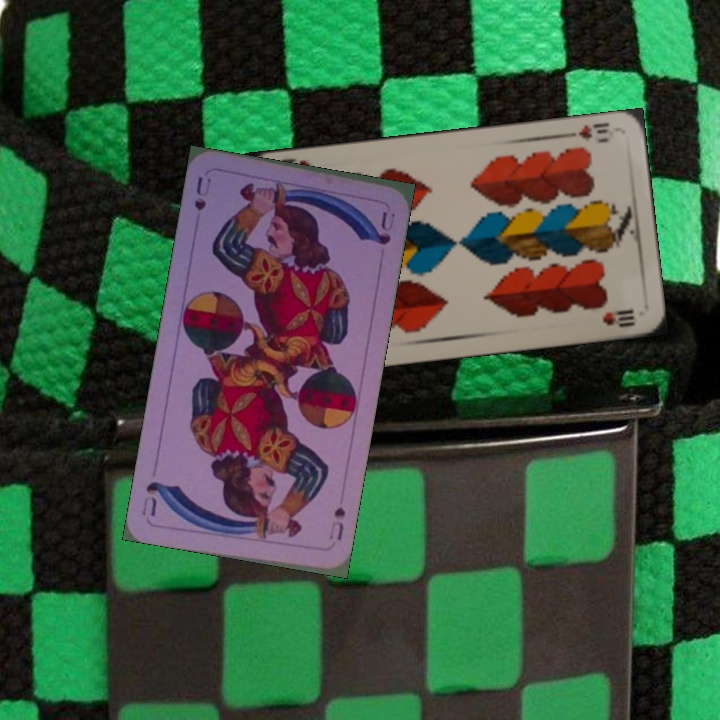H10: (560, 118, 612, 146)
SU: (190, 172, 214, 214), (330, 503, 348, 543)
